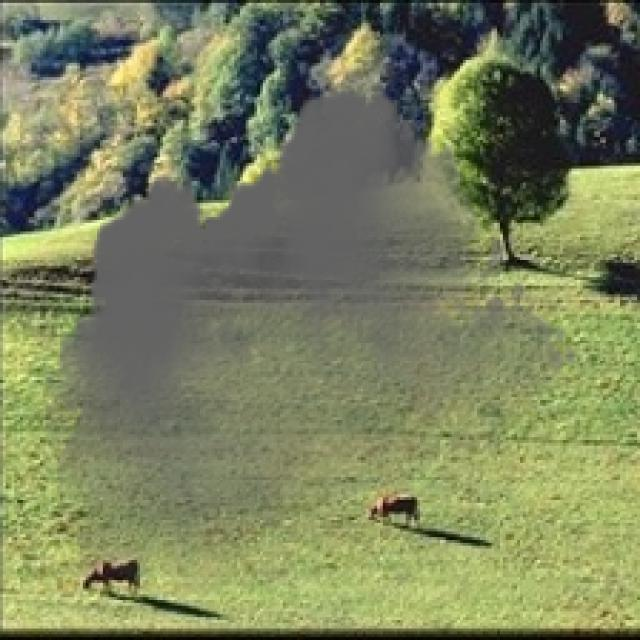smoke: (46, 69, 580, 614)
